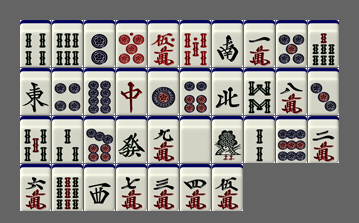0m: (148, 20, 179, 67)
0p: (116, 20, 147, 67)
0s: (180, 20, 211, 67)
1m: (244, 20, 275, 67)
1p: (148, 68, 179, 115)
1s: (212, 116, 243, 163)
1z: (20, 68, 51, 115)
2m: (308, 116, 339, 163)
2p: (84, 20, 115, 67)
2s: (244, 116, 275, 163)
2z: (212, 20, 243, 67)
3m: (148, 164, 179, 211)
3p: (308, 68, 339, 115)
3s: (52, 116, 83, 163)
3z: (84, 164, 115, 211)
4m: (180, 164, 211, 211)
4p: (52, 68, 83, 115)
4s: (20, 20, 51, 67)
4z: (212, 68, 243, 115)
5m: (212, 164, 243, 211)
5p: (276, 20, 307, 67)
5s: (20, 116, 51, 163)
5z: (180, 116, 211, 163)
6m: (20, 164, 51, 211)
6p: (180, 68, 211, 115)
6s: (52, 20, 83, 67)
6z: (116, 116, 147, 163)
7m: (116, 164, 147, 211)
7p: (84, 116, 115, 163)
7s: (308, 20, 339, 67)
7z: (116, 68, 147, 115)
8m: (276, 68, 307, 115)
8p: (84, 68, 115, 115)
8s: (244, 68, 275, 115)
9m: (148, 116, 179, 163)
9p: (276, 116, 307, 163)
9s: (52, 164, 83, 211)
